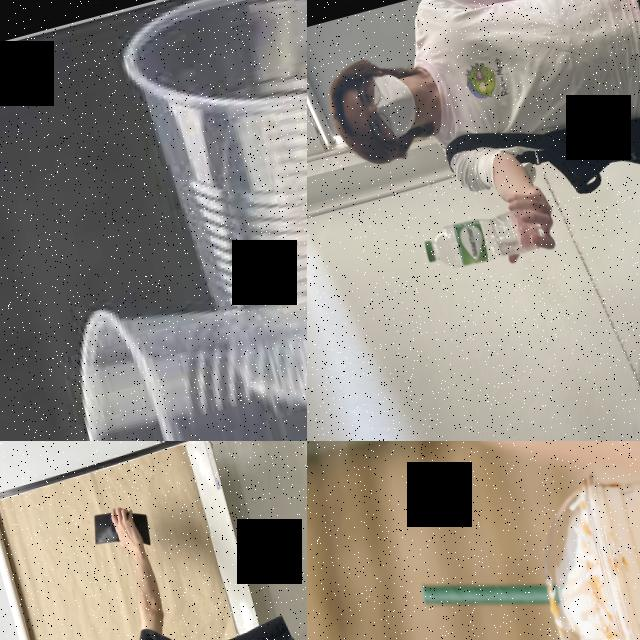bottle: (420, 199, 548, 276)
cup: (110, 0, 307, 434), (52, 196, 307, 441), (515, 441, 640, 640)
